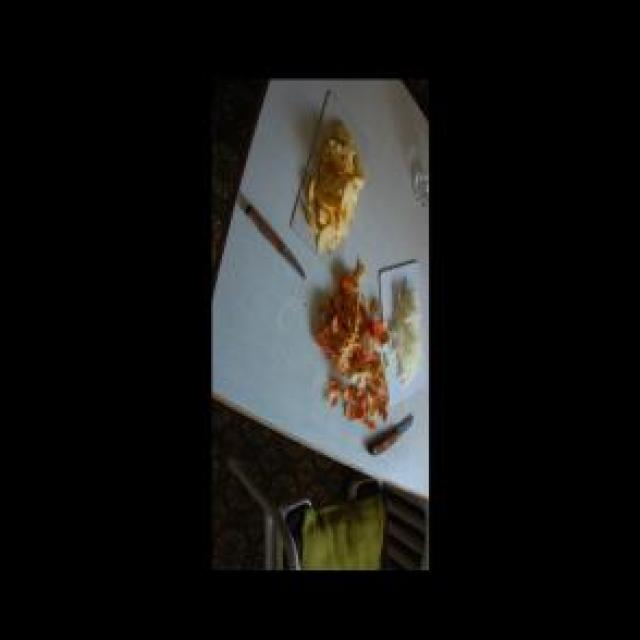knife: (244, 207, 304, 281), (361, 409, 417, 456)
